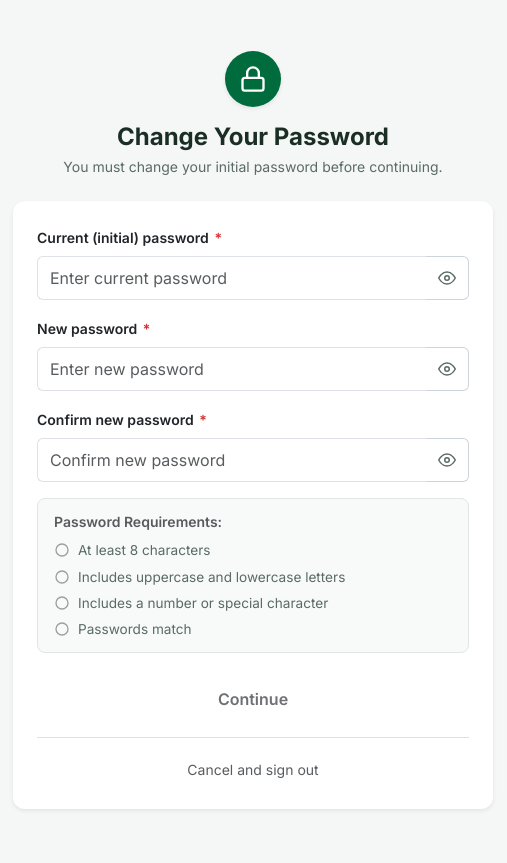
Test: ChangePassword Component — UI-02 (AC-02, FR-03, BR-07) › displays error banner if current password verification fails (API-04, API-05)
The width and height of the screenshot is (507, 863).
In the password field labelled "Current (initial) password *": (232, 278) x1=37 y1=256 x2=427 y2=300, type "WrongInitial!"
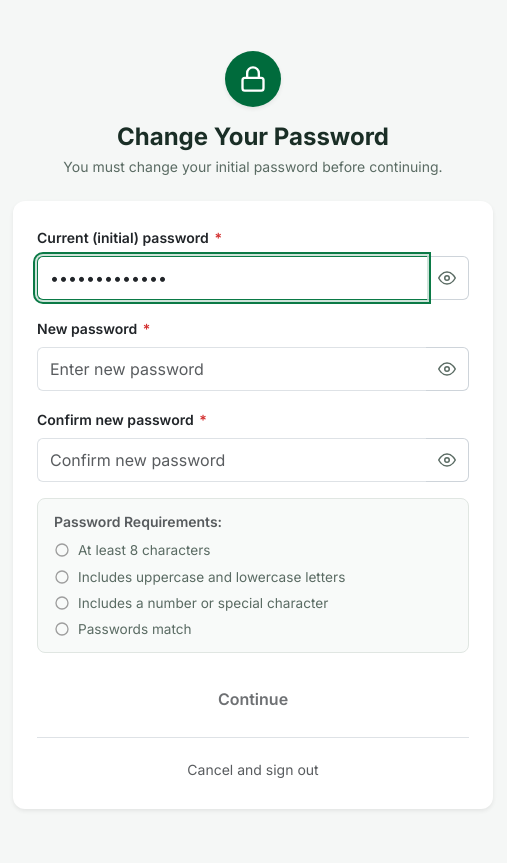
In the password field labelled "New password *": (232, 369) x1=37 y1=347 x2=427 y2=391, type "BrandNewPass99#"
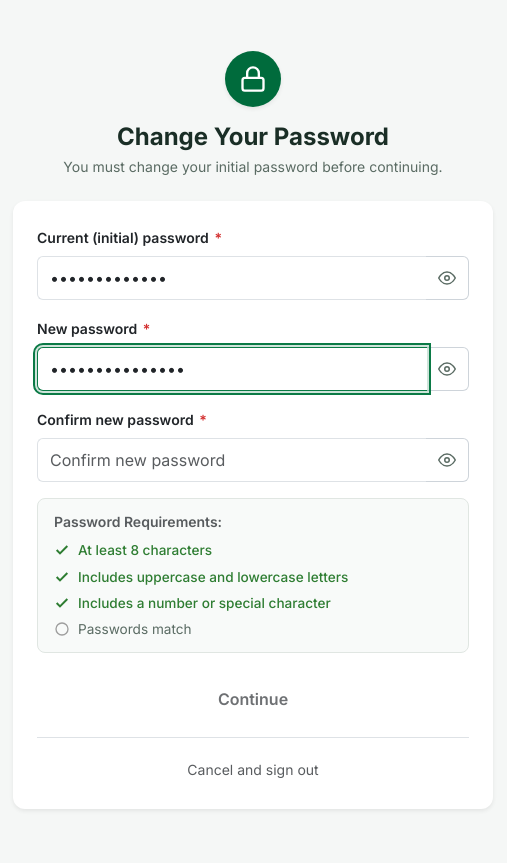
In the password field labelled "Confirm new password *": (232, 460) x1=37 y1=438 x2=427 y2=482, type "BrandNewPass99#"
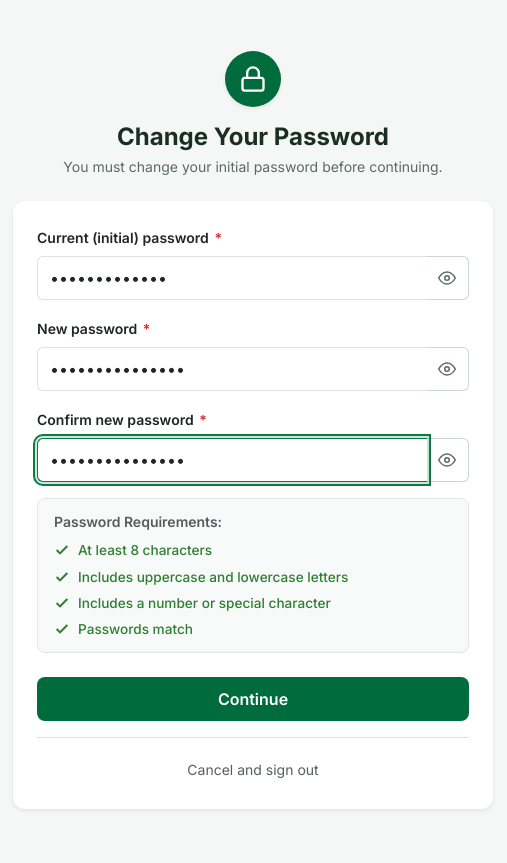
Click the button "Continue": (253, 699) x1=37 y1=677 x2=469 y2=721
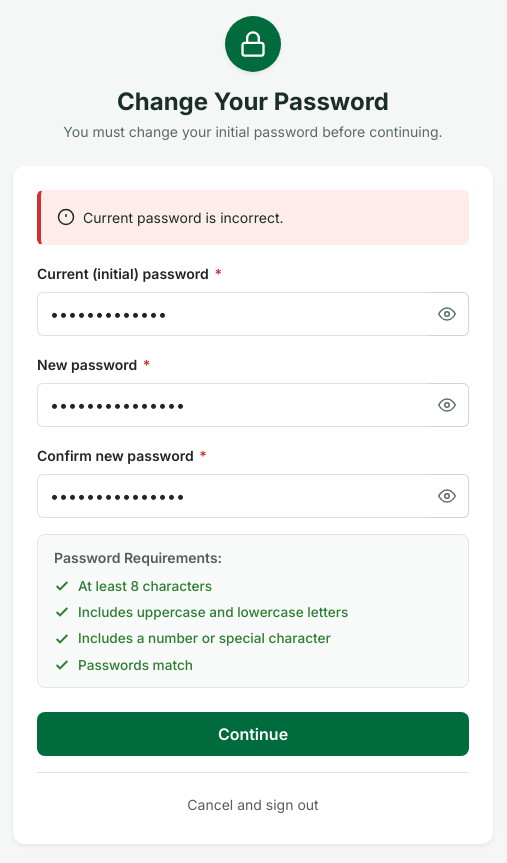
Expected: the message reads "Current password is incorrect.", x1=83 y1=209 x2=284 y2=226
